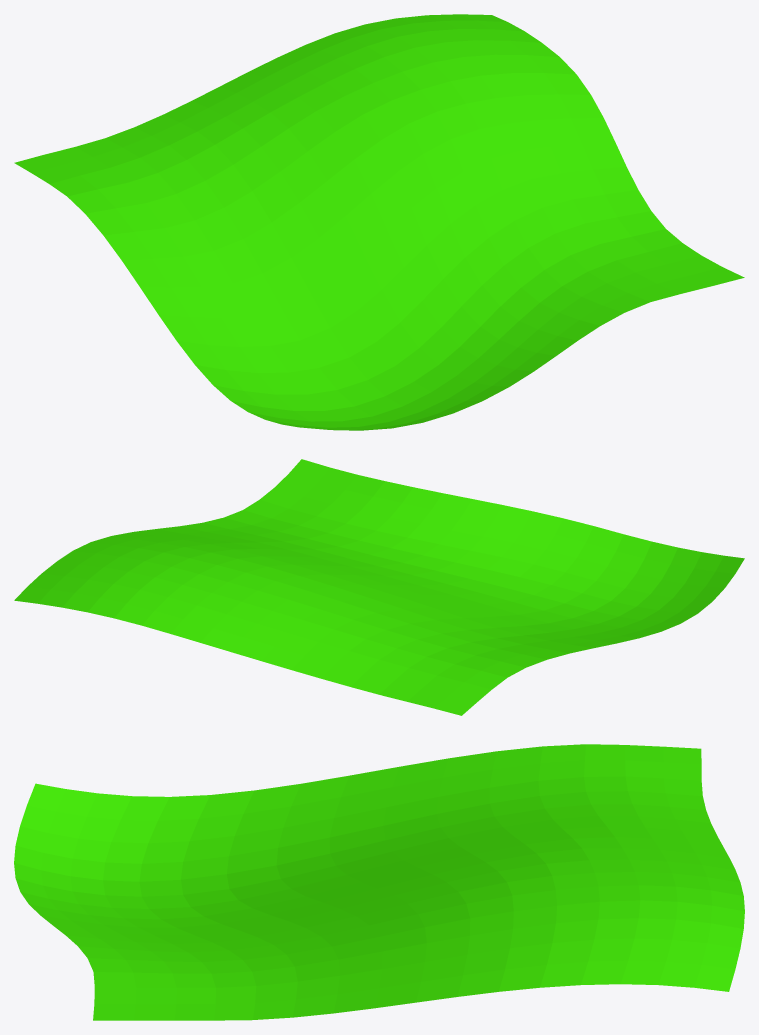
The model's file is island.glb.
3 renders of one model, top to bottom at view 1: azimuth 30°, elevation 25°; view 2: azimuth 150°, elevation 25°; view 3: azimuth 270°, elevation 25°, orthographic. The views are drawn at different scales.
Visible parts, largest first — view 1: terrain; view 2: terrain; view 3: terrain.
Part boxes in pixels (left/top/right/bottom): terrain: left=14, top=14, right=744, bottom=430; terrain: left=14, top=459, right=744, bottom=715; terrain: left=14, top=744, right=744, bottom=1020.
Size of the model in its own units: 7.14 by 1.62 by 7.93.
